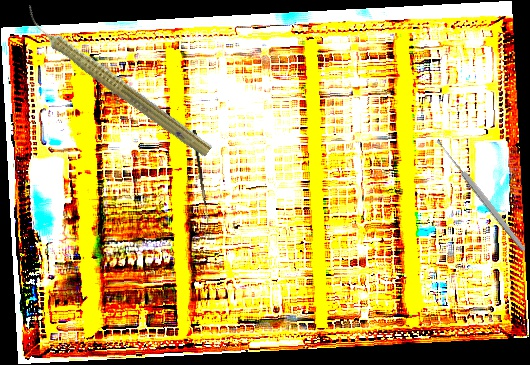Handpiece: (15, 3, 218, 161)
Hook Surgical: (191, 129, 213, 228)
Surgical Spoon: (434, 137, 528, 253)
